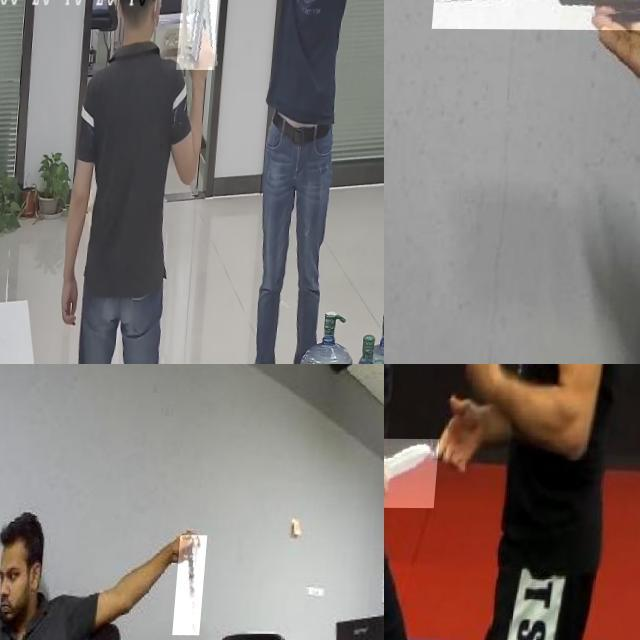-: (435, 0, 640, 34), (384, 438, 446, 507), (179, 535, 213, 635)
gun-knife-thesis - v11 Yolov5 augmented: (177, 0, 221, 69)
